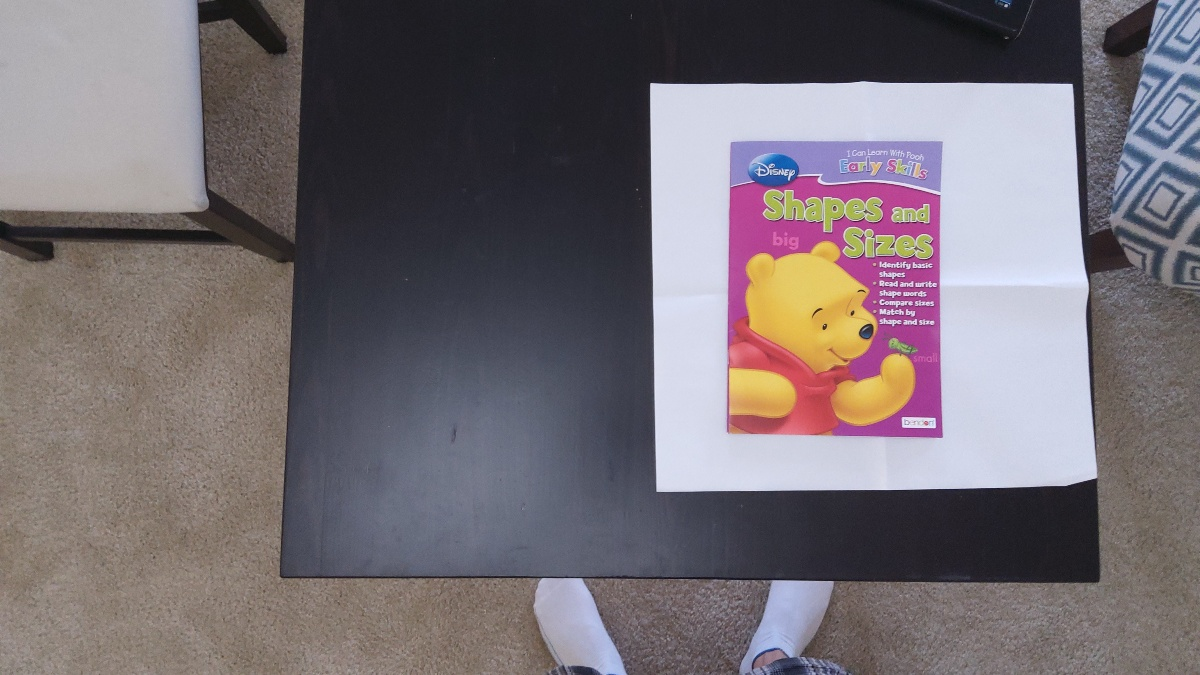book: (729, 144, 939, 437)
